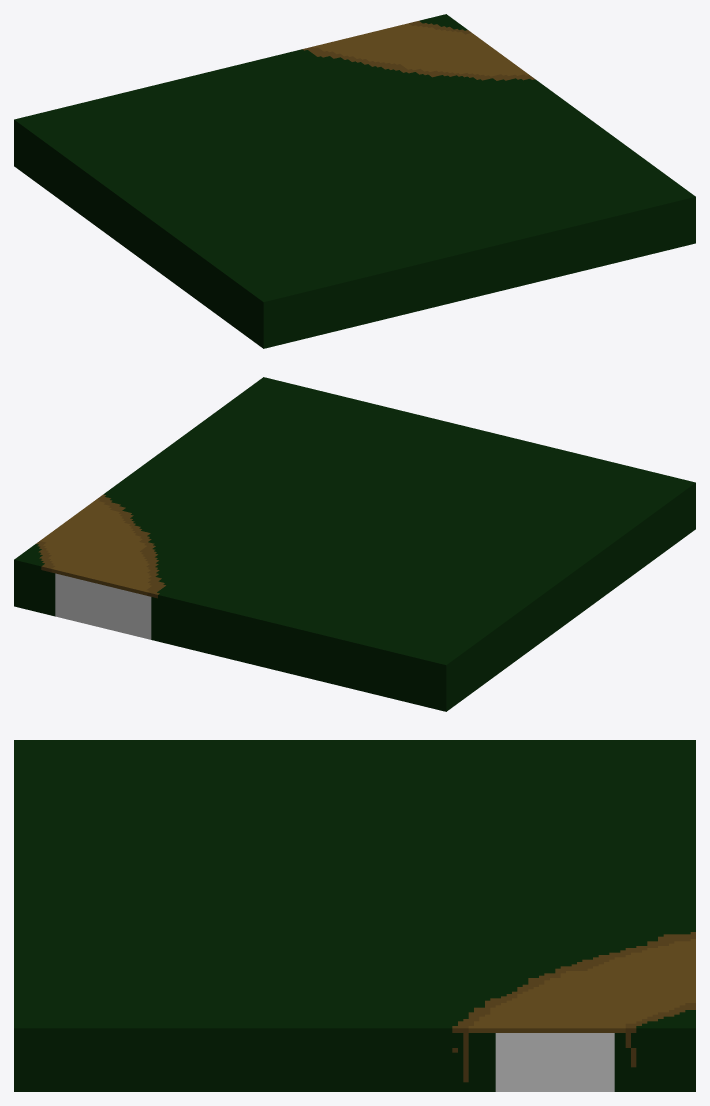
File: map-9.obj
3 views of the same model, one above another, from view 1: azimuth 30°, elevation 25°; view 2: azimuth 150°, elevation 25°; view 3: azimuth 270°, elevation 25° (orthographic). The views are drawn at different scales.
Visible parts, largest first — view 1: map-9; view 2: map-9; view 3: map-9.
Part boxes in pixels (left/top/right/bottom): map-9: left=14, top=14, right=695, bottom=348; map-9: left=14, top=377, right=695, bottom=711; map-9: left=14, top=740, right=695, bottom=1091.
Size of the model in its own units: 126 by 13 by 126.
1 material, 1 textured.
